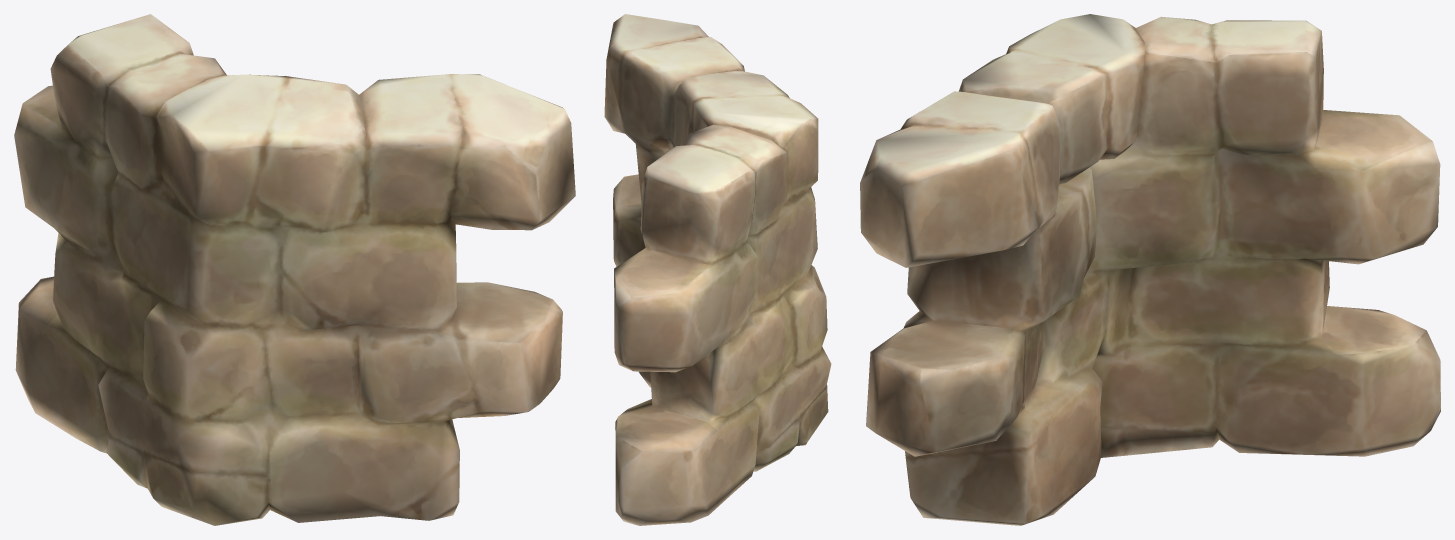
The model's file is mesh_StoneWall_Outer_2.fbx.
3 views of the same model, side by side, from view 1: azimuth 30°, elevation 25°; view 2: azimuth 150°, elevation 25°; view 3: azimuth 270°, elevation 25° (orthographic). The views are drawn at different scales.
Parts seen in each view (by area): view 1: StoneWall_Outer_2_LOD0; view 2: StoneWall_Outer_2_LOD0; view 3: StoneWall_Outer_2_LOD0.
Boxes of the visible parts, x1,y1,x2,y2 form: StoneWall_Outer_2_LOD0: (14, 14, 575, 525); StoneWall_Outer_2_LOD0: (604, 14, 831, 525); StoneWall_Outer_2_LOD0: (860, 14, 1440, 525).
Size of what is drawn, in the model's own units: 5.81 by 6.6 by 8.47.
1 material, 1 textured.
